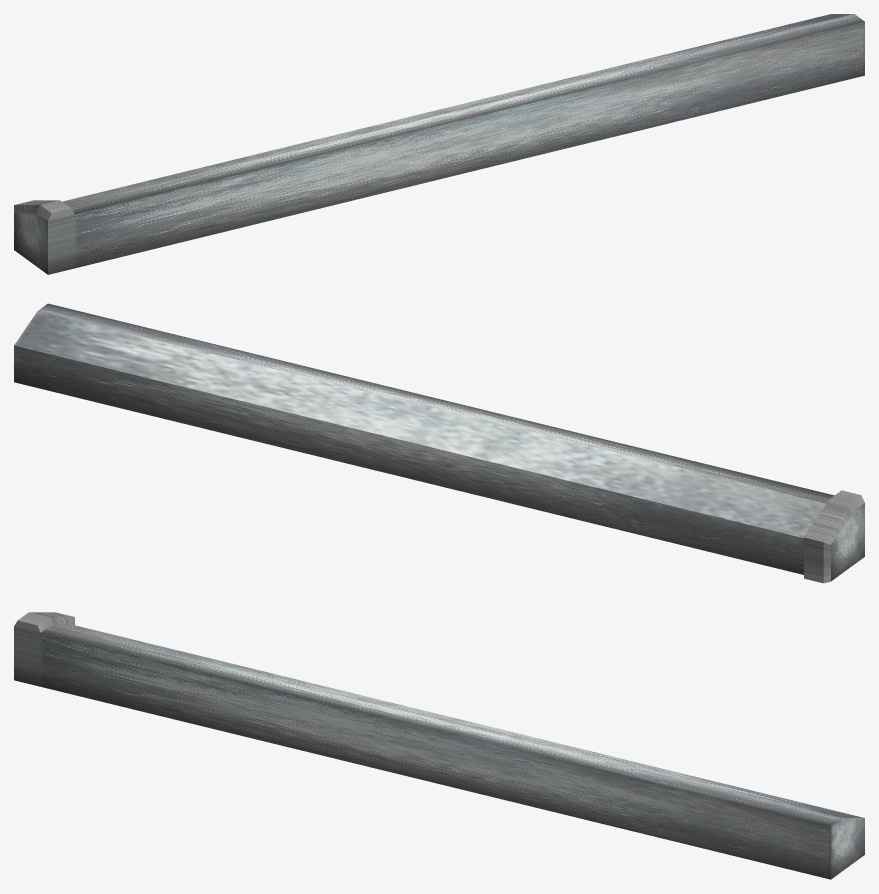
Rendered from bar1_with_connector.FBX.
3 renders of one model, top to bottom at view 1: azimuth 30°, elevation 25°; view 2: azimuth 150°, elevation 25°; view 3: azimuth 330°, elevation 25°, orthographic.
Visible parts, largest first — view 1: Box001; view 2: Box001; view 3: Box001.
Part boxes in pixels (box(x1,y1,x2,y2)): Box001: box(14, 14, 864, 274); Box001: box(14, 303, 864, 583); Box001: box(14, 612, 864, 879).
Size of the model in its own units: 108 by 7.68 by 8.65.
2 materials, 2 textured.
